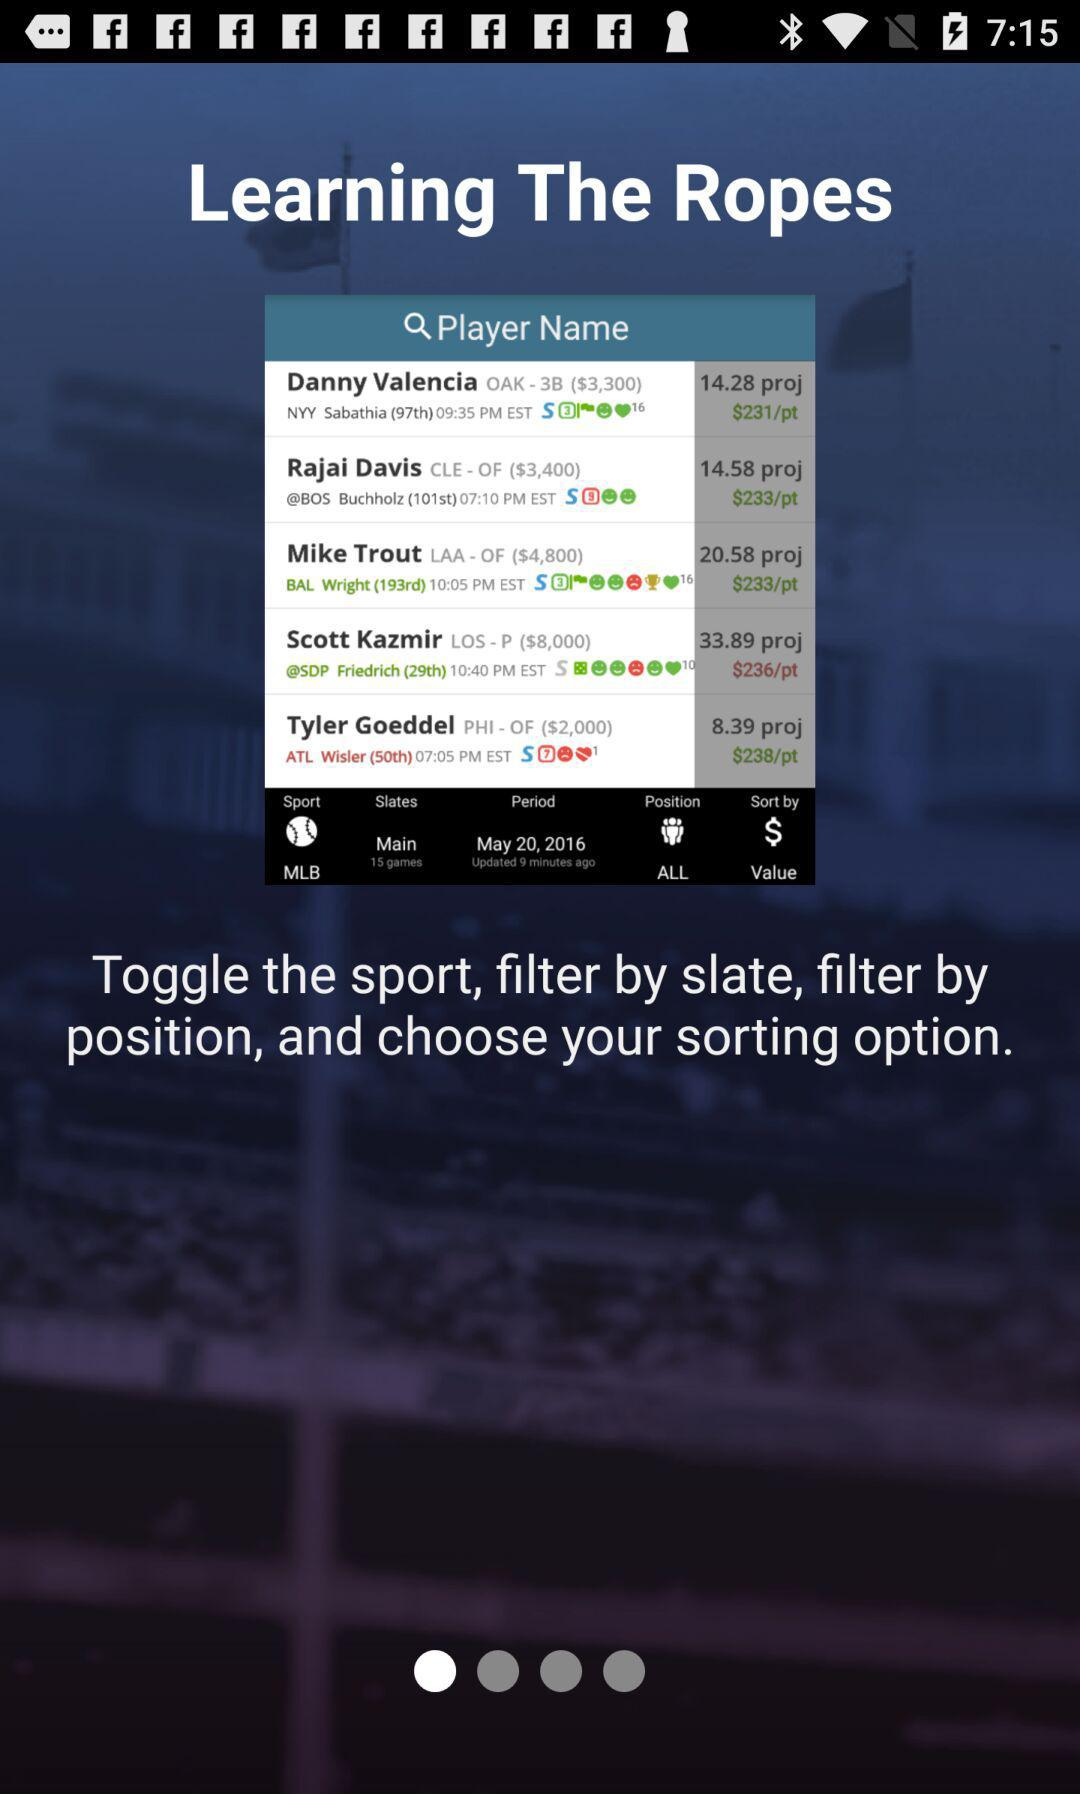BackgroundImage: (1, 64, 1080, 1794)
Image: (264, 293, 817, 887)
PageIndicator: (413, 1648, 648, 1695)
Text: (68, 952, 1013, 1067), (191, 161, 893, 241)
UpperTaskBar: (1, 1, 1080, 64)
